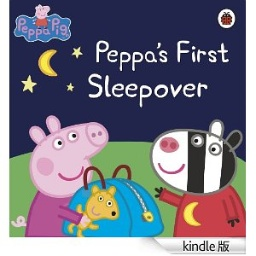Peppa: (12, 112, 111, 246)
